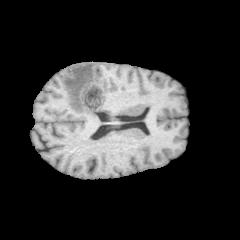glioma: (64, 62, 110, 116)
